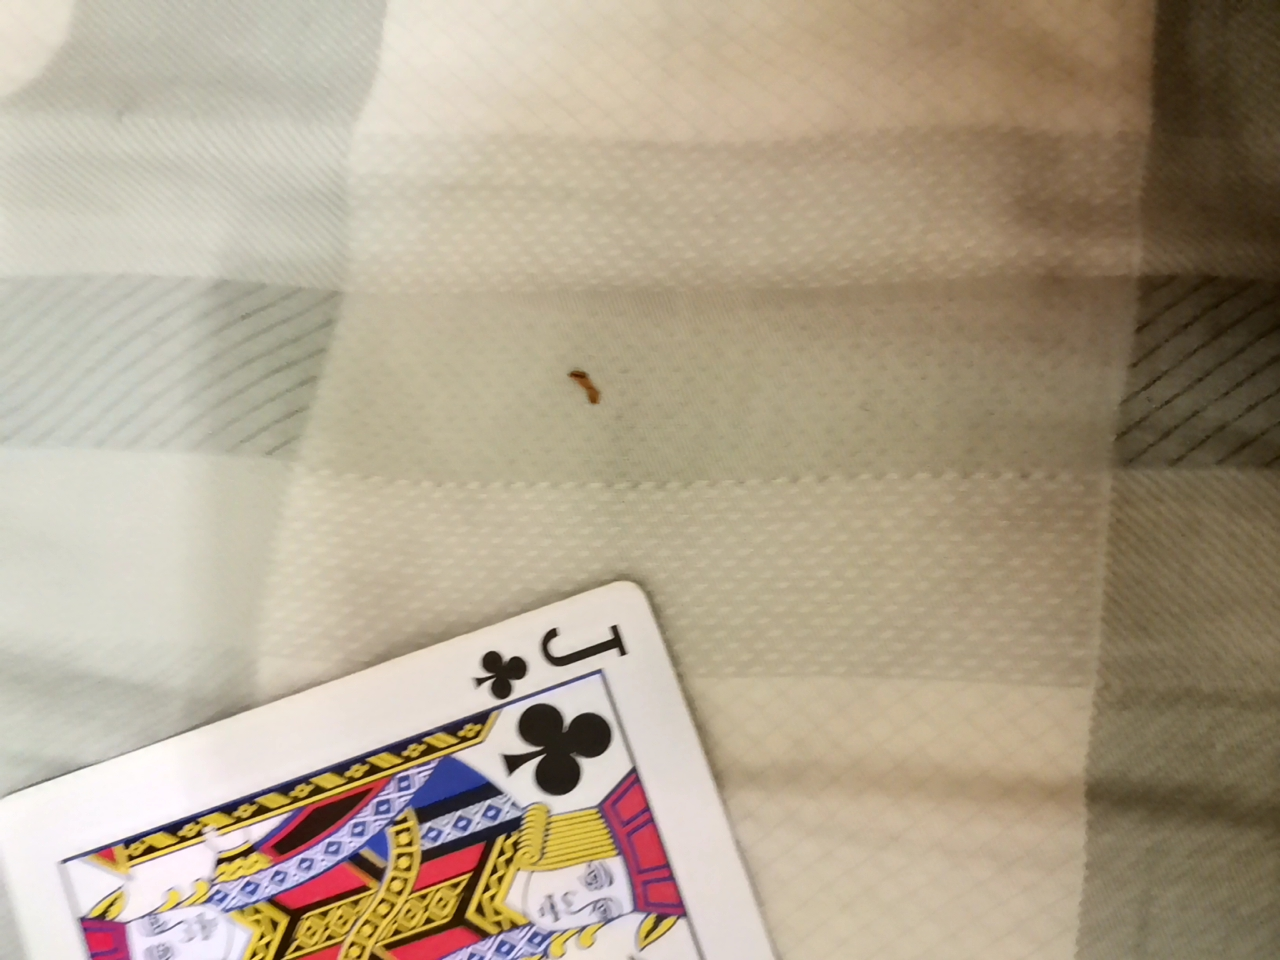mh j: (11, 598, 847, 957)
